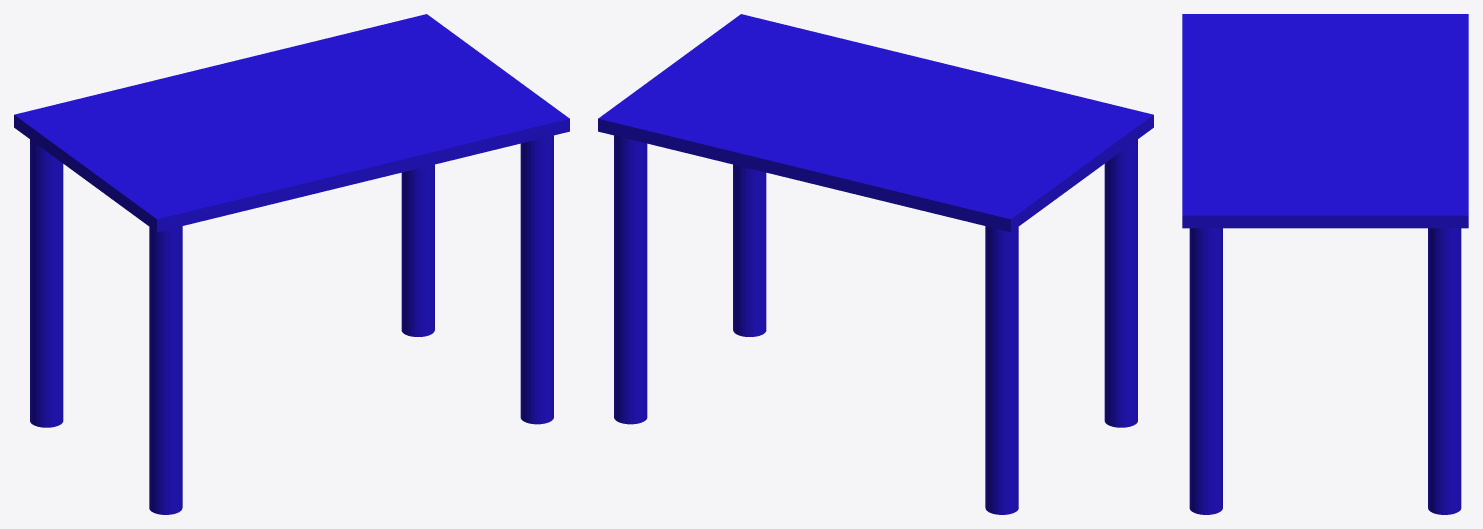
Rendered from desk3.dae.
3 renders of one model, left to right at view 1: azimuth 30°, elevation 25°; view 2: azimuth 150°, elevation 25°; view 3: azimuth 270°, elevation 25°, orthographic.
Parts seen in each view (by area): view 1: desk3 v1; view 2: desk3 v1; view 3: desk3 v1.
Part boxes in pixels (x1,y1,x2,y2): desk3 v1: (14,14,569,514); desk3 v1: (598,14,1153,514); desk3 v1: (1182,14,1468,514).
Size of the model in its own units: 1 by 0.6 by 0.7.
